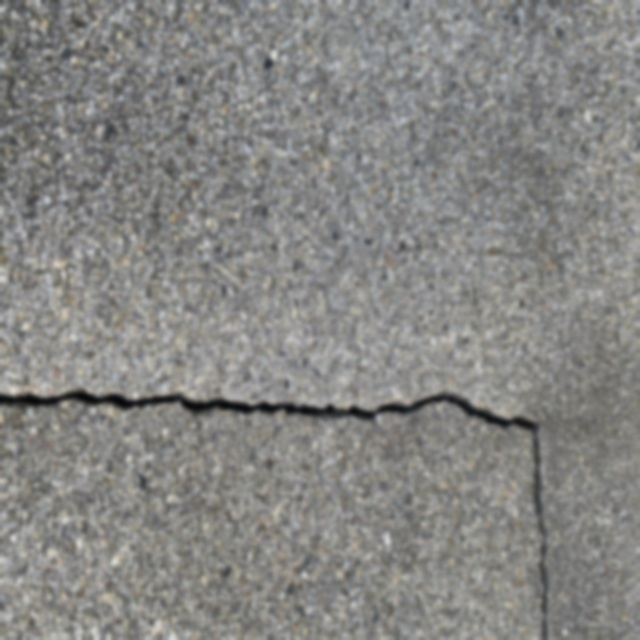SurfaceCrack: (1, 349, 559, 472)
